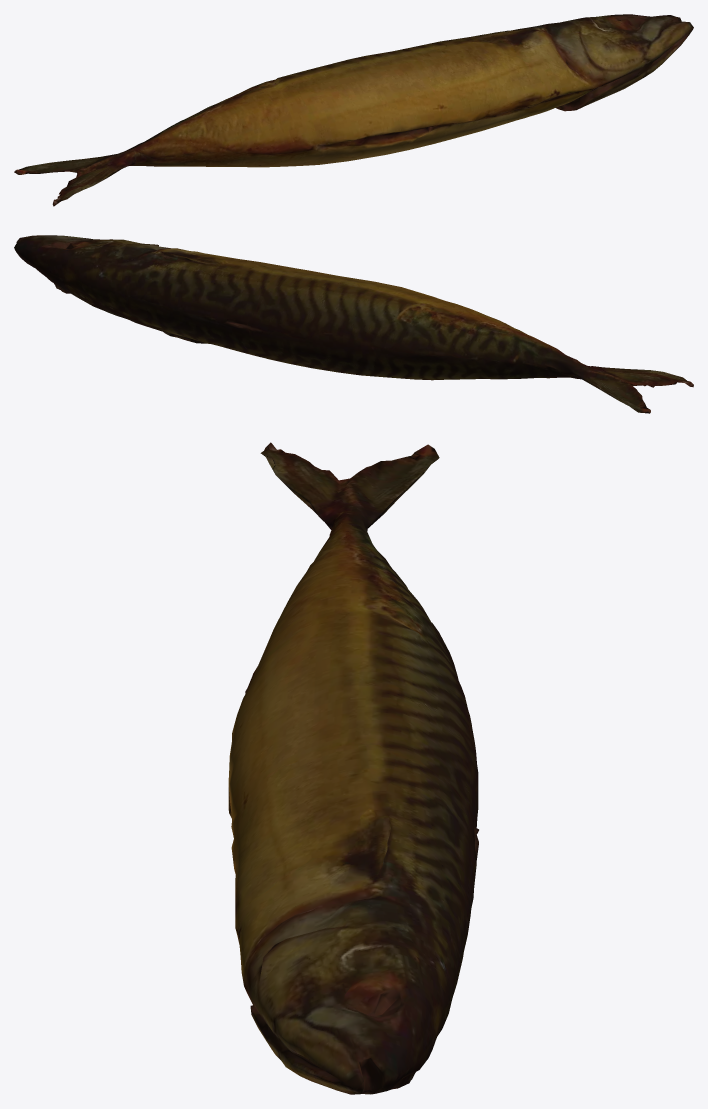
File: fish.glb
3 views of the same model, one above another, from view 1: azimuth 30°, elevation 25°; view 2: azimuth 150°, elevation 25°; view 3: azimuth 270°, elevation 25° (orthographic). The views are drawn at different scales.
Visible parts, largest first — view 1: weflciqaa_LOD0_TIER2_000; view 2: weflciqaa_LOD0_TIER2_000; view 3: weflciqaa_LOD0_TIER2_000.
Part boxes in pixels (<box>): weflciqaa_LOD0_TIER2_000: <box>14,14,693,206</box>; weflciqaa_LOD0_TIER2_000: <box>14,235,693,413</box>; weflciqaa_LOD0_TIER2_000: <box>228,442,478,1094</box>.
Size of the model in its own units: 0.3021 by 0.0391 by 0.0502.
1 material, 1 textured.
